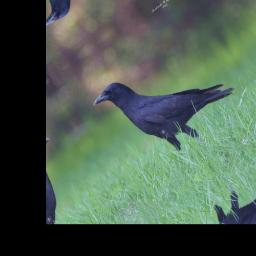Crow: (90, 20, 249, 188)
